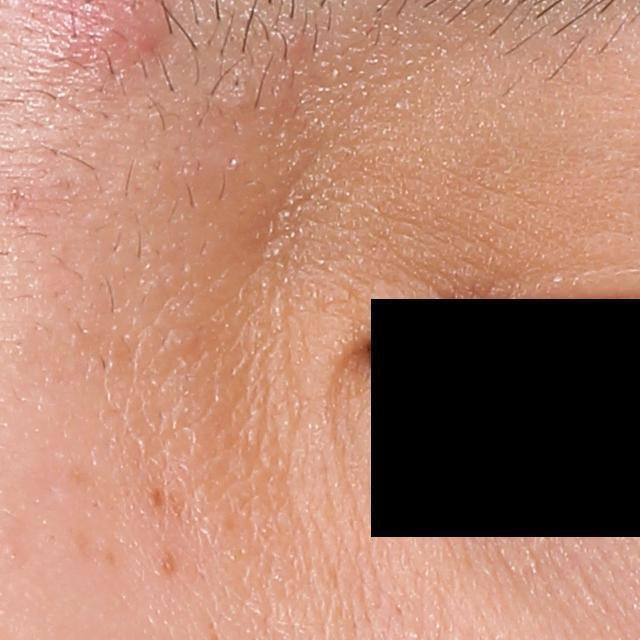melasma: (146, 489, 174, 515)
